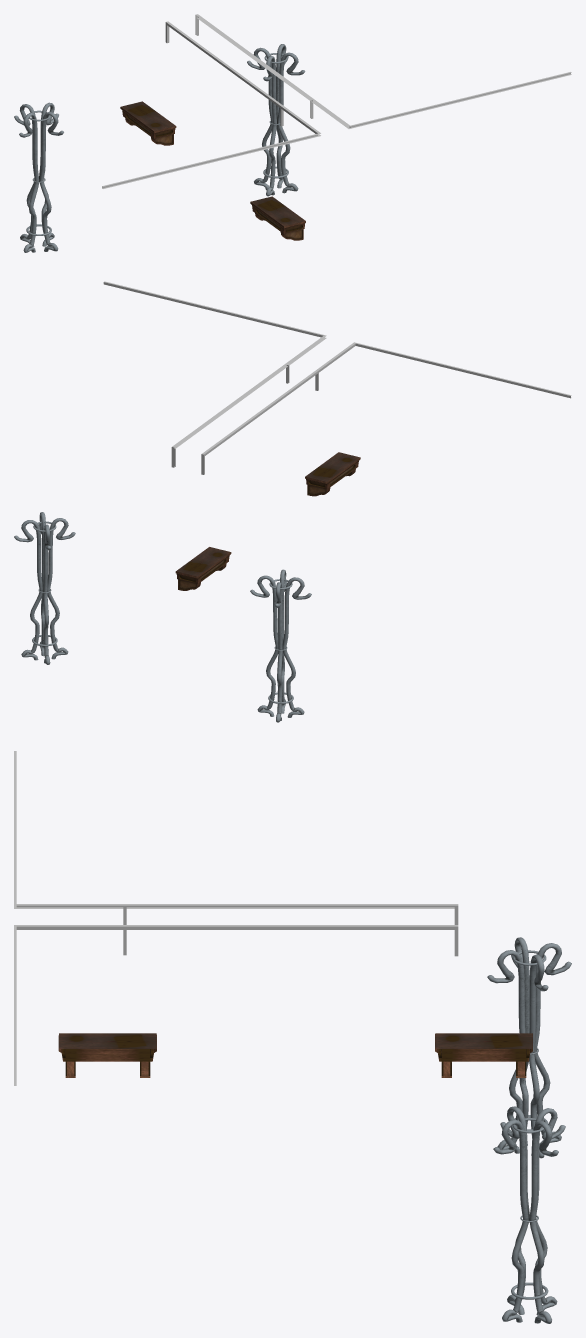
The picture shows the model from 3 angles, top to bottom: view 1: azimuth 30°, elevation 25°; view 2: azimuth 150°, elevation 25°; view 3: azimuth 270°, elevation 25°; orthographic projection. The views are drawn at different scales.
Visible parts, largest first — view 1: Cube.058, BézierCurve.003, BézierCurve.004, Cube.074, Cube.075; view 2: Cube.058, BézierCurve.004, BézierCurve.003, Cube.074, Cube.075; view 3: Cube.058, BézierCurve.003, BézierCurve.004, Cube.074, Cube.075.
Part boxes in pixels (bbox=[...]): Cube.058: bbox=[102, 14, 571, 188]; BézierCurve.003: bbox=[247, 44, 305, 196]; BézierCurve.004: bbox=[14, 102, 63, 252]; Cube.074: bbox=[250, 196, 305, 240]; Cube.075: bbox=[120, 101, 176, 145]; Cube.058: bbox=[103, 281, 571, 474]; BézierCurve.004: bbox=[250, 569, 311, 722]; BézierCurve.003: bbox=[14, 512, 75, 664]; Cube.074: bbox=[305, 452, 360, 496]; Cube.075: bbox=[175, 547, 231, 590]; Cube.058: bbox=[14, 751, 458, 1085]; BézierCurve.003: bbox=[493, 1106, 565, 1323]; BézierCurve.004: bbox=[487, 937, 571, 1158]; Cube.074: bbox=[58, 1033, 156, 1077]; Cube.075: bbox=[435, 1033, 532, 1077].
Bounding box in the file's own units: 700 × 314 × 498.
